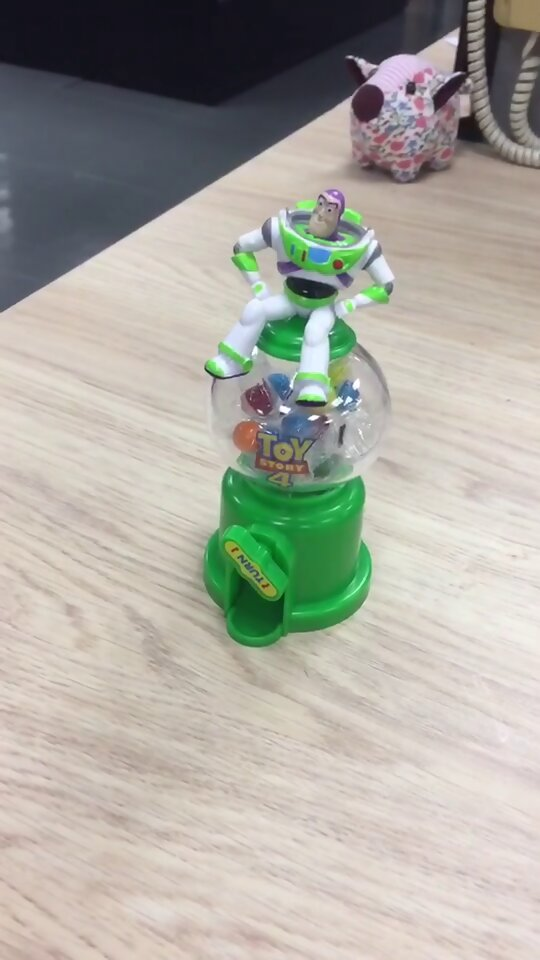buzz: (197, 183, 397, 653)
